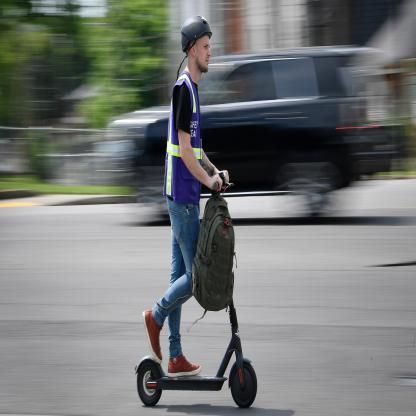scooter: (135, 169, 258, 408)
with helmet: (181, 15, 214, 74)
